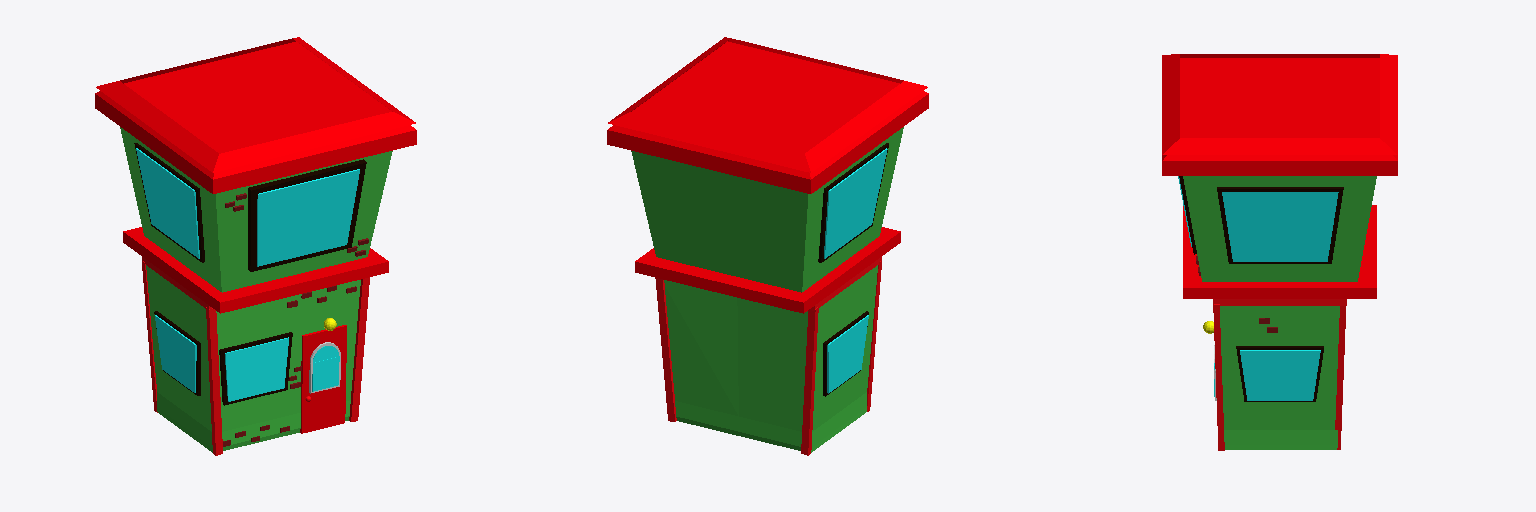
Rendered from restaurante2.obj.
The picture shows the model from 3 angles: view 1: azimuth 30°, elevation 25°; view 2: azimuth 150°, elevation 25°; view 3: azimuth 270°, elevation 25°; orthographic projection.
Visible parts, largest first — view 1: polySurface10; view 2: polySurface10; view 3: polySurface10.
Boxes of the visible parts, <box> form: polySurface10: <box>95,37,416,455</box>; polySurface10: <box>607,37,928,455</box>; polySurface10: <box>1162,54,1397,450</box>.
Bounding box in the file's own units: 35.76 × 53.58 × 35.76.